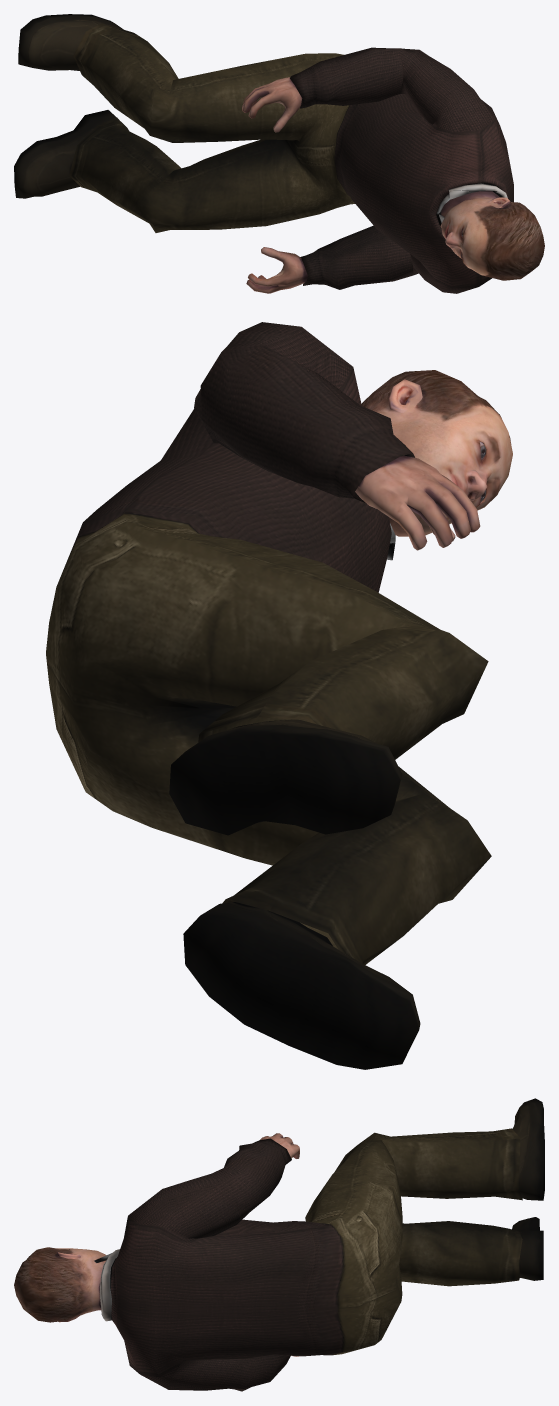
The model's file is Alfred.obj.
3 views of the same model, one above another, from view 1: azimuth 30°, elevation 25°; view 2: azimuth 150°, elevation 25°; view 3: azimuth 270°, elevation 25° (orthographic). The views are drawn at different scales.
Parts seen in each view (by area): view 1: Alfred_low_Cube.002; view 2: Alfred_low_Cube.002; view 3: Alfred_low_Cube.002.
Part boxes in pixels (box(x1,y1,x2,y2)): Alfred_low_Cube.002: box(14, 14, 544, 293); Alfred_low_Cube.002: box(46, 322, 512, 1069); Alfred_low_Cube.002: box(14, 1098, 544, 1391).
Bounding box in the file's own units: 4.68 × 3.67 × 7.51.
Materials: 1 (1 with a texture image).
